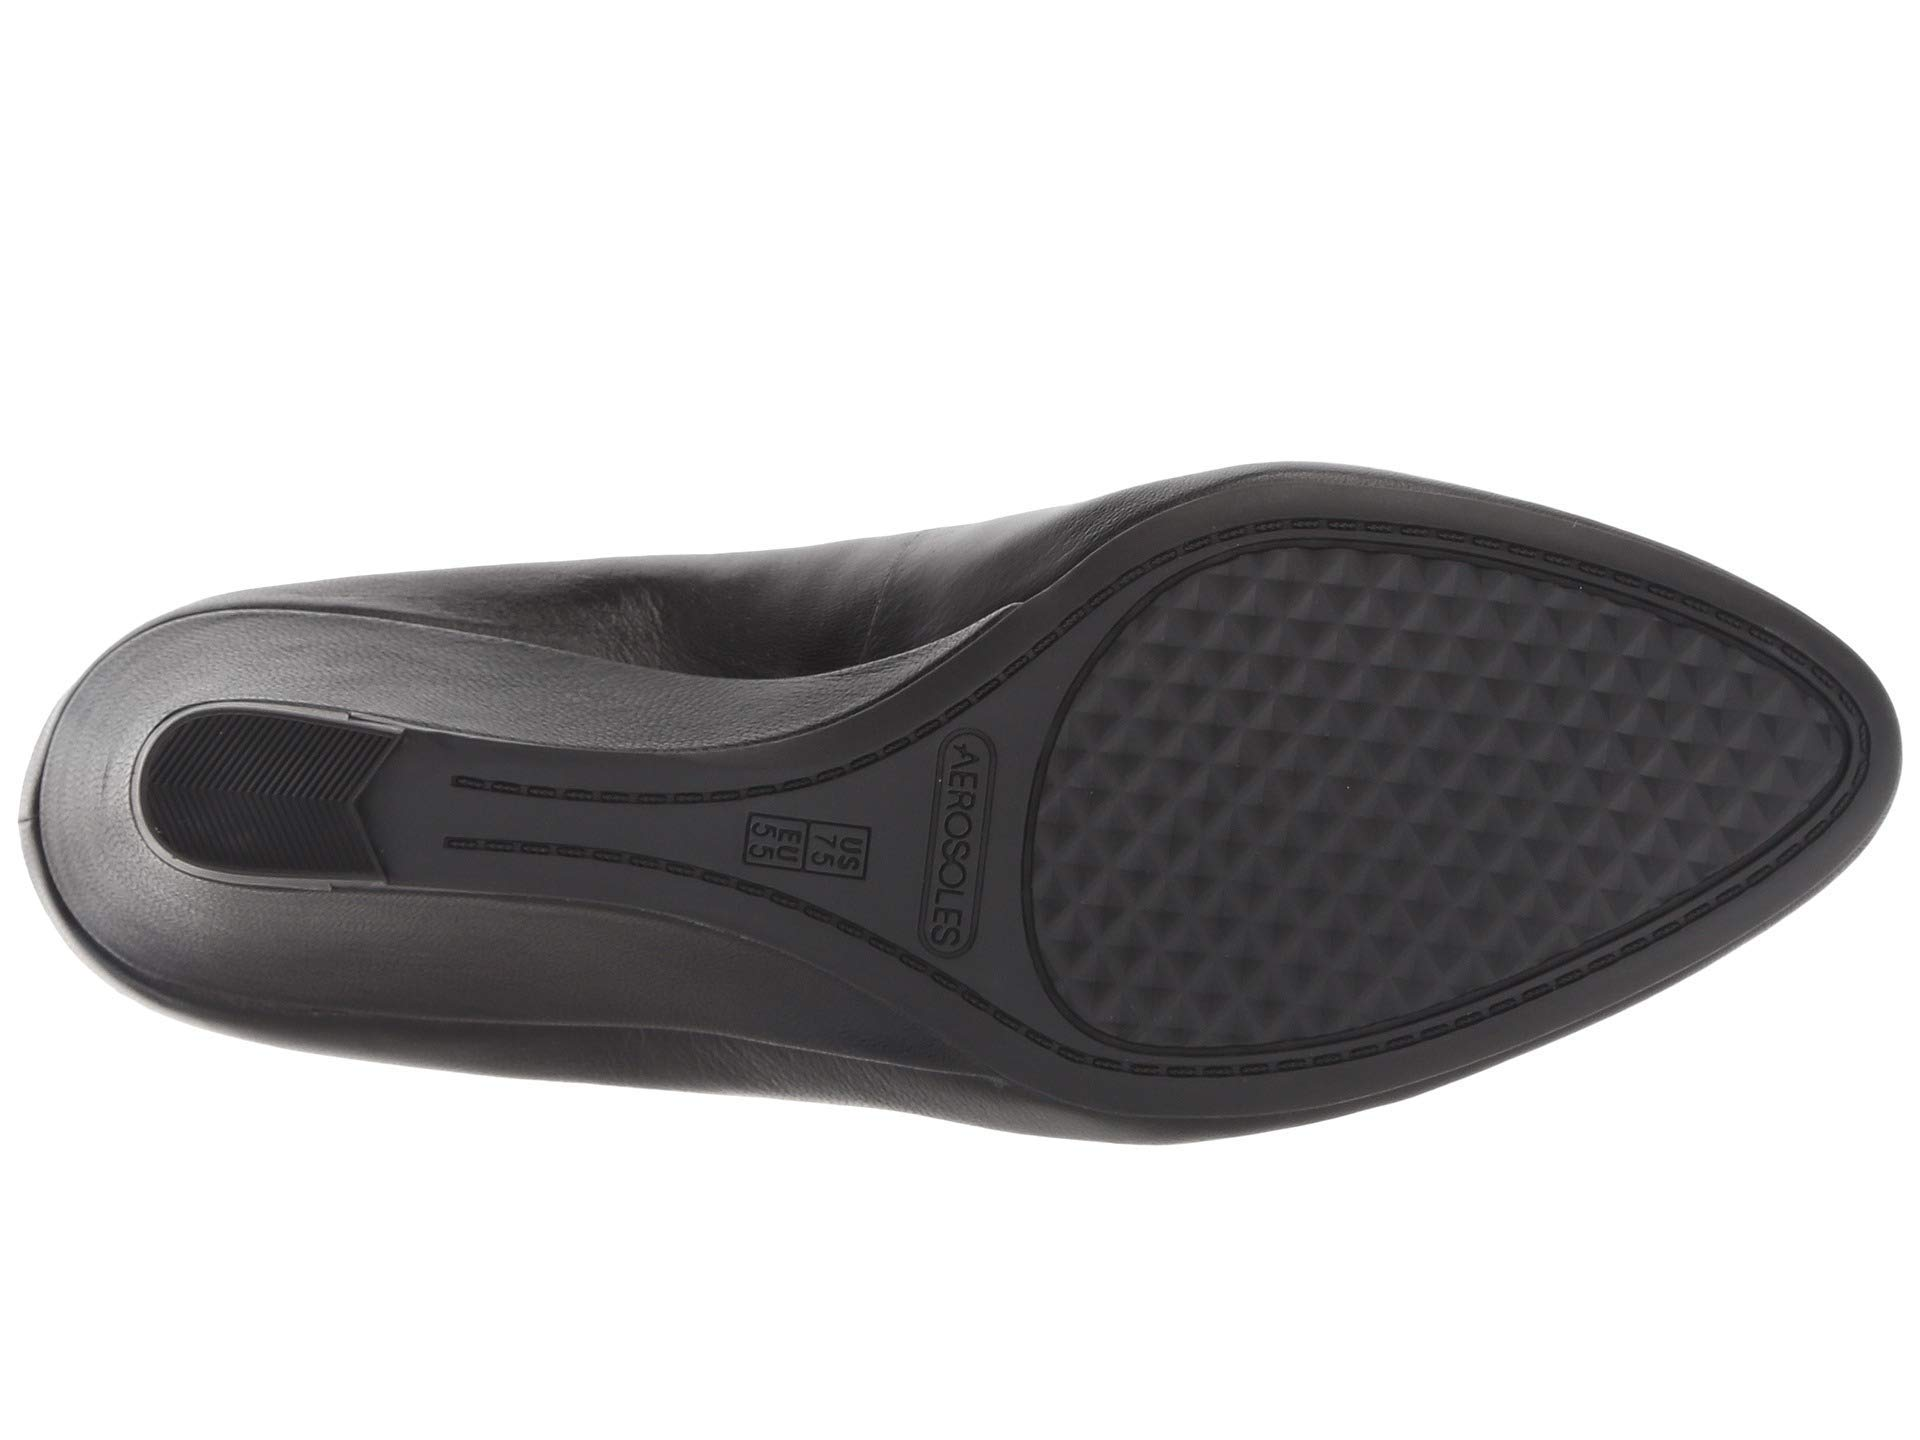circle: (782, 652, 1082, 967)
quad: (782, 652, 1082, 967)
text: (782, 652, 1082, 967)
